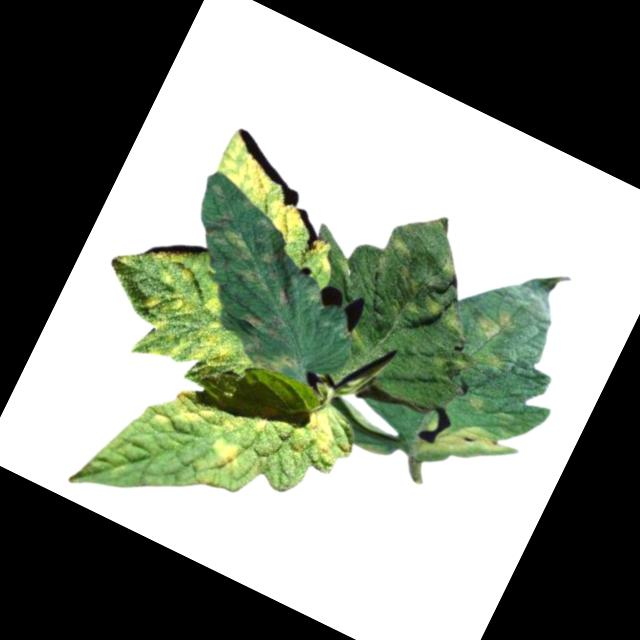Leaf_Mold: (78, 221, 265, 393), (197, 127, 370, 272), (175, 181, 322, 311), (413, 403, 520, 492), (226, 304, 313, 383), (398, 275, 478, 343), (293, 404, 358, 468), (193, 432, 255, 497), (470, 296, 523, 349), (168, 384, 222, 432), (380, 224, 419, 264), (249, 415, 270, 439)
